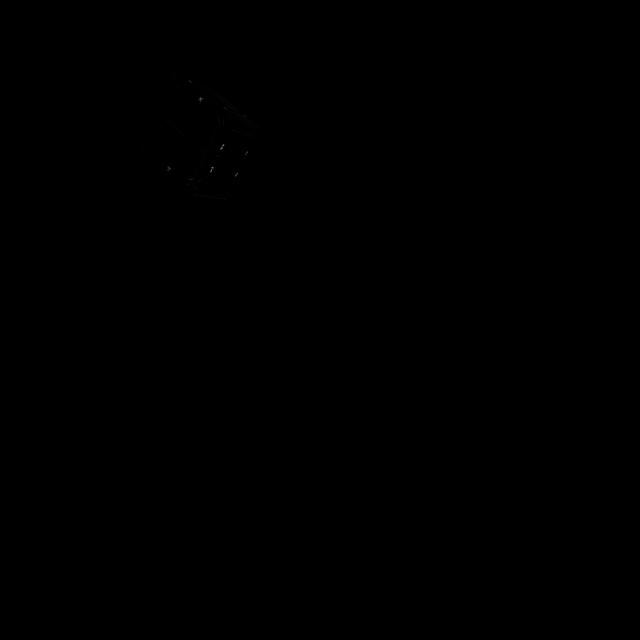medium_debris: (141, 80, 264, 209)
